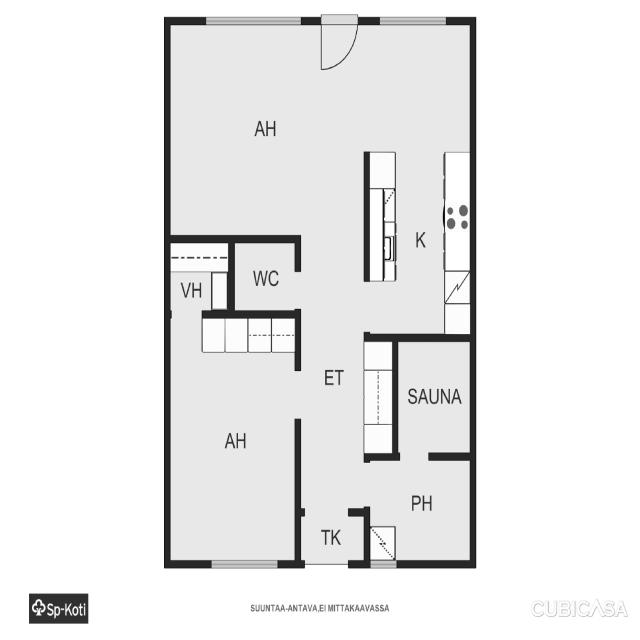door: (318, 11, 356, 77)
window: (371, 9, 452, 29), (207, 554, 277, 574), (200, 12, 305, 24), (366, 553, 400, 575)
zone: (164, 22, 363, 246), (361, 17, 479, 344), (161, 309, 300, 568), (363, 459, 477, 566), (394, 335, 472, 456), (161, 239, 233, 309), (232, 245, 297, 308)
